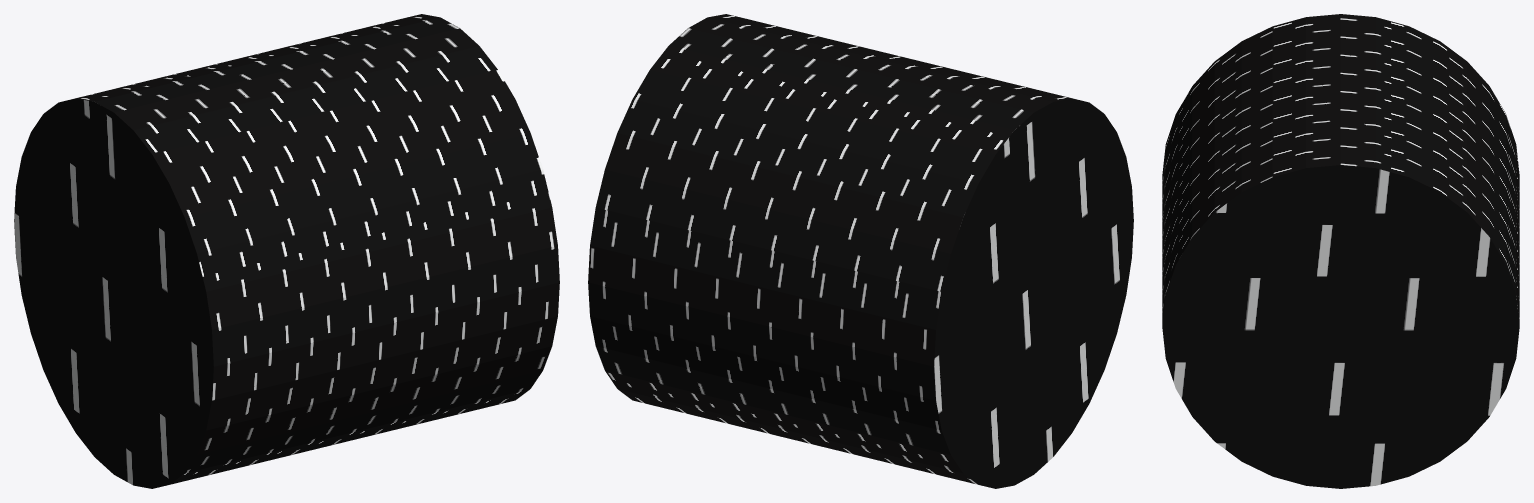
Rendered from rain.fbx.
3 views of the same model, side by side, from view 1: azimuth 30°, elevation 25°; view 2: azimuth 150°, elevation 25°; view 3: azimuth 270°, elevation 25° (orthographic). The views are drawn at different scales.
Visible parts, largest first — view 1: Cylinder; view 2: Cylinder; view 3: Cylinder.
Part boxes in pixels (x1=…): Cylinder: x1=14, y1=14, x2=559, y2=488; Cylinder: x1=588, y1=14, x2=1133, y2=488; Cylinder: x1=1162, y1=14, x2=1519, y2=488.
Bounding box in the file's own units: 2.4 × 2.4 × 2.4.
1 material, 1 textured.
